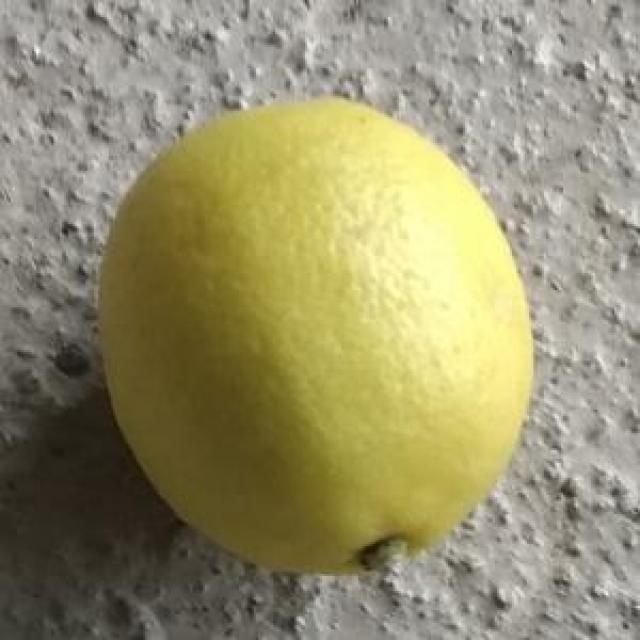lemon: (92, 100, 542, 580)
